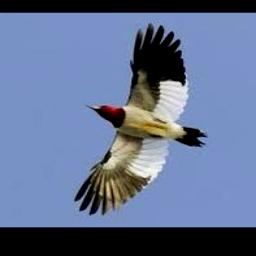Woodpecker: (75, 23, 208, 215)
